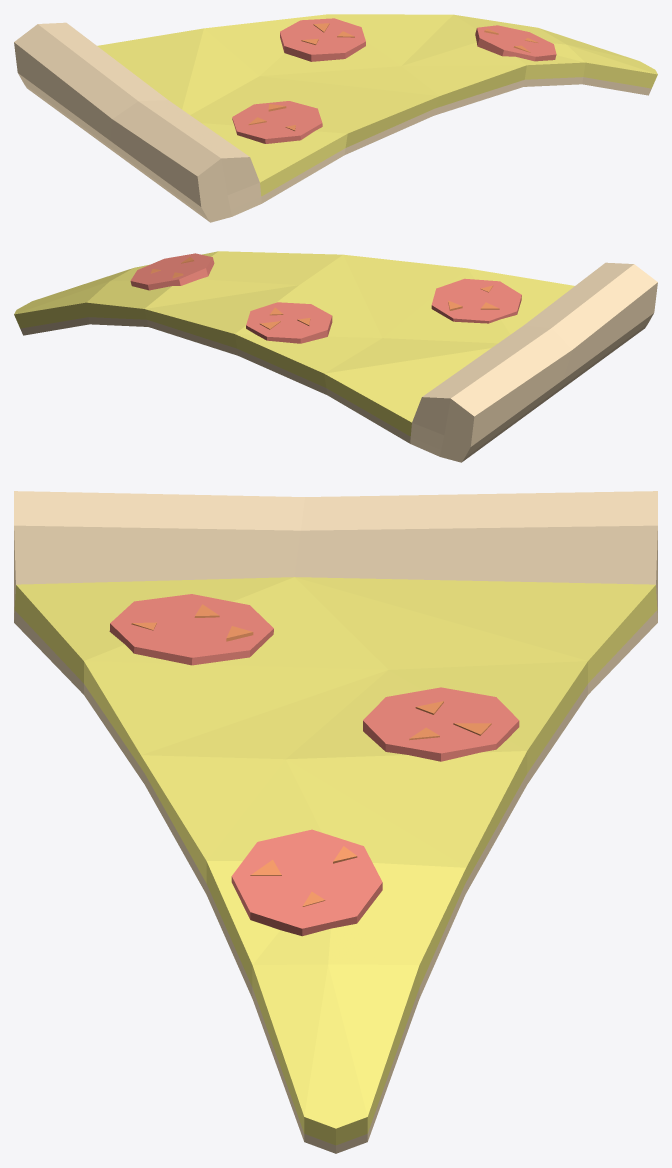
The picture shows the model from 3 angles, top to bottom: view 1: azimuth 30°, elevation 25°; view 2: azimuth 150°, elevation 25°; view 3: azimuth 270°, elevation 25°; orthographic projection. The views are drawn at different scales.
Visible parts, largest first — view 1: Plane.001; view 2: Plane.001; view 3: Plane.001.
Part boxes in pixels (bbox=[...]): Plane.001: bbox=[14, 14, 657, 222]; Plane.001: bbox=[14, 251, 657, 462]; Plane.001: bbox=[14, 491, 657, 1153].
Bounding box in the file's own units: 17.29 × 3.78 × 10.
